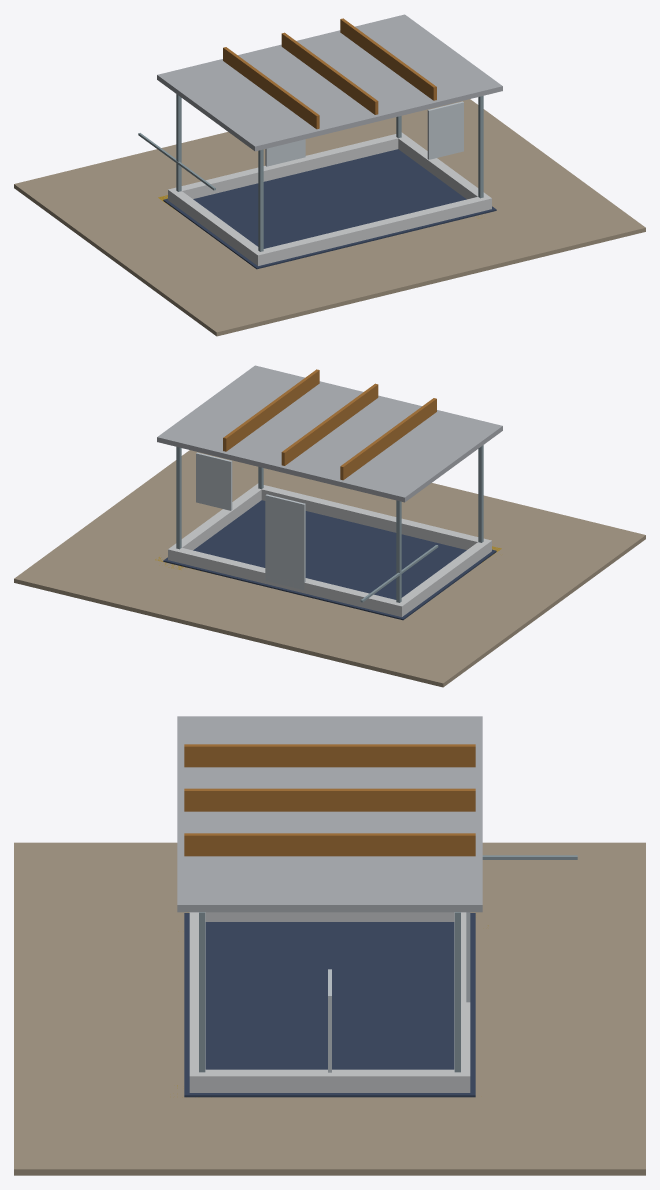
Rendered from stage_10_roof_covering.glb.
3 renders of one model, top to bottom at view 1: azimuth 30°, elevation 25°; view 2: azimuth 150°, elevation 25°; view 3: azimuth 270°, elevation 25°, orthographic. The views are drawn at different scales.
Visible parts, largest first — view 1: world; view 2: world; view 3: world.
Boxes of the visible parts, left/top/right/bottom form: world: left=14, top=14, right=645, bottom=336; world: left=14, top=365, right=645, bottom=687; world: left=14, top=716, right=645, bottom=1175.
Bounding box in the file's own units: 11 × 4.2 × 9.
